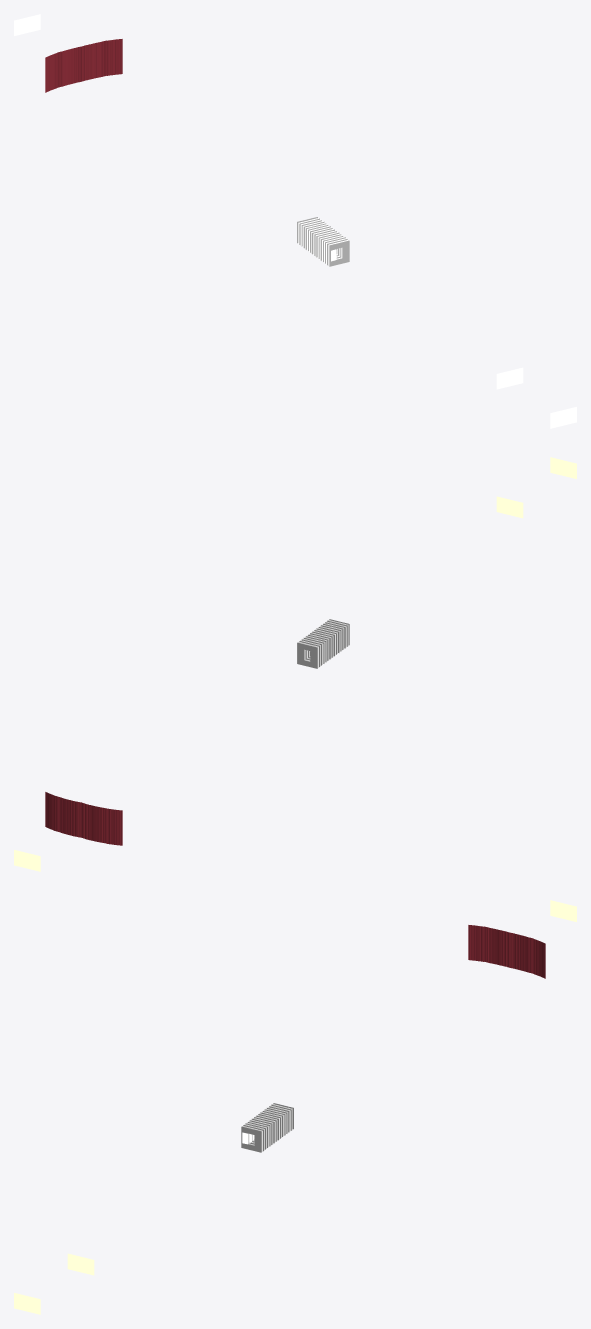
The picture shows the model from 3 angles, top to bottom: view 1: azimuth 30°, elevation 25°; view 2: azimuth 150°, elevation 25°; view 3: azimuth 330°, elevation 25°; orthographic projection.
Parts seen in each view (by area): view 1: curtain_2, curtain, curtain_1, curtain_2_2; view 2: curtain_1, curtain_2, curtain_2_2, curtain; view 3: curtain_1, curtain_2, curtain_2_2, curtain.
Part boxes in pixels (left/top/right/bottom): curtain_2: left=82, top=41, right=102, bottom=81; curtain: left=102, top=39, right=122, bottom=76; curtain_1: left=61, top=46, right=81, bottom=86; curtain_2_2: left=45, top=51, right=61, bottom=92; curtain_1: left=81, top=802, right=102, bottom=842; curtain_2: left=61, top=797, right=81, bottom=837; curtain_2_2: left=102, top=807, right=122, bottom=845; curtain: left=45, top=792, right=60, bottom=832; curtain_1: left=488, top=927, right=508, bottom=967; curtain_2: left=509, top=932, right=529, bottom=972; curtain_2_2: left=468, top=925, right=488, bottom=962; curtain: left=529, top=937, right=545, bottom=978.
Size of the model in its own units: 25.03 by 10.96 by 300.
